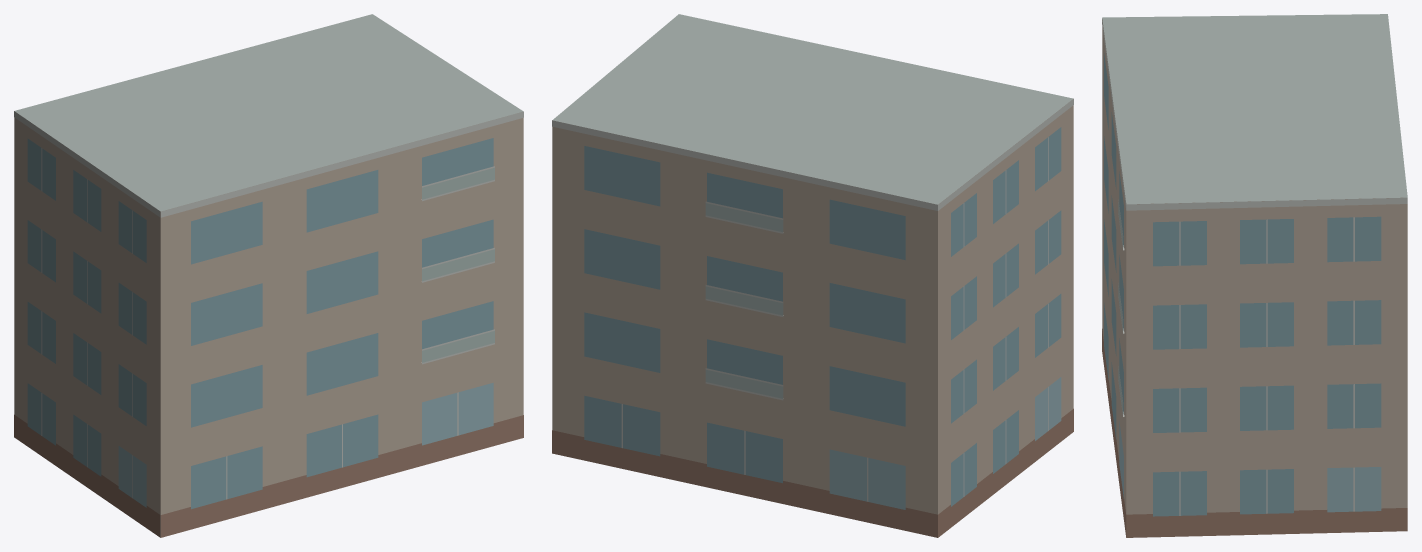
Rendered from survey-upis-32698007.glb.
3 renders of one model, left to right at view 1: azimuth 30°, elevation 25°; view 2: azimuth 150°, elevation 25°; view 3: azimuth 270°, elevation 25°, orthographic. The views are drawn at different scales.
Visible parts, largest first — view 1: survey-upis-32698007.tmp; view 2: survey-upis-32698007.tmp; view 3: survey-upis-32698007.tmp.
Part boxes in pixels (x1,y1,x2,y2): survey-upis-32698007.tmp: [14, 14, 523, 537]; survey-upis-32698007.tmp: [552, 14, 1073, 537]; survey-upis-32698007.tmp: [1102, 14, 1407, 537].
Bounding box in the file's own units: 15.68 × 12.8 × 10.64.
